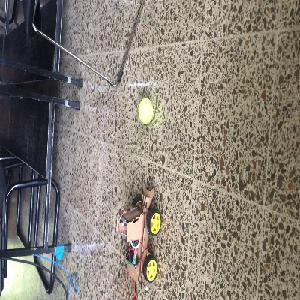Ball: (138, 98, 153, 124)
Robot: (116, 181, 161, 283)
